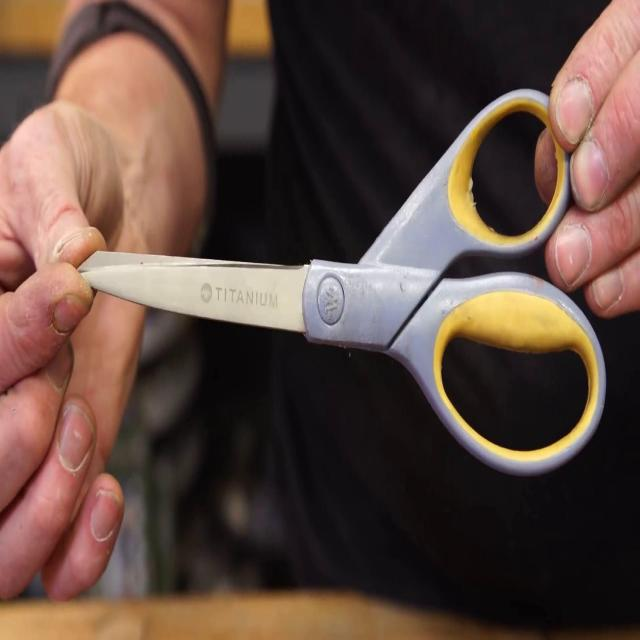scissor: (75, 88, 606, 477)
